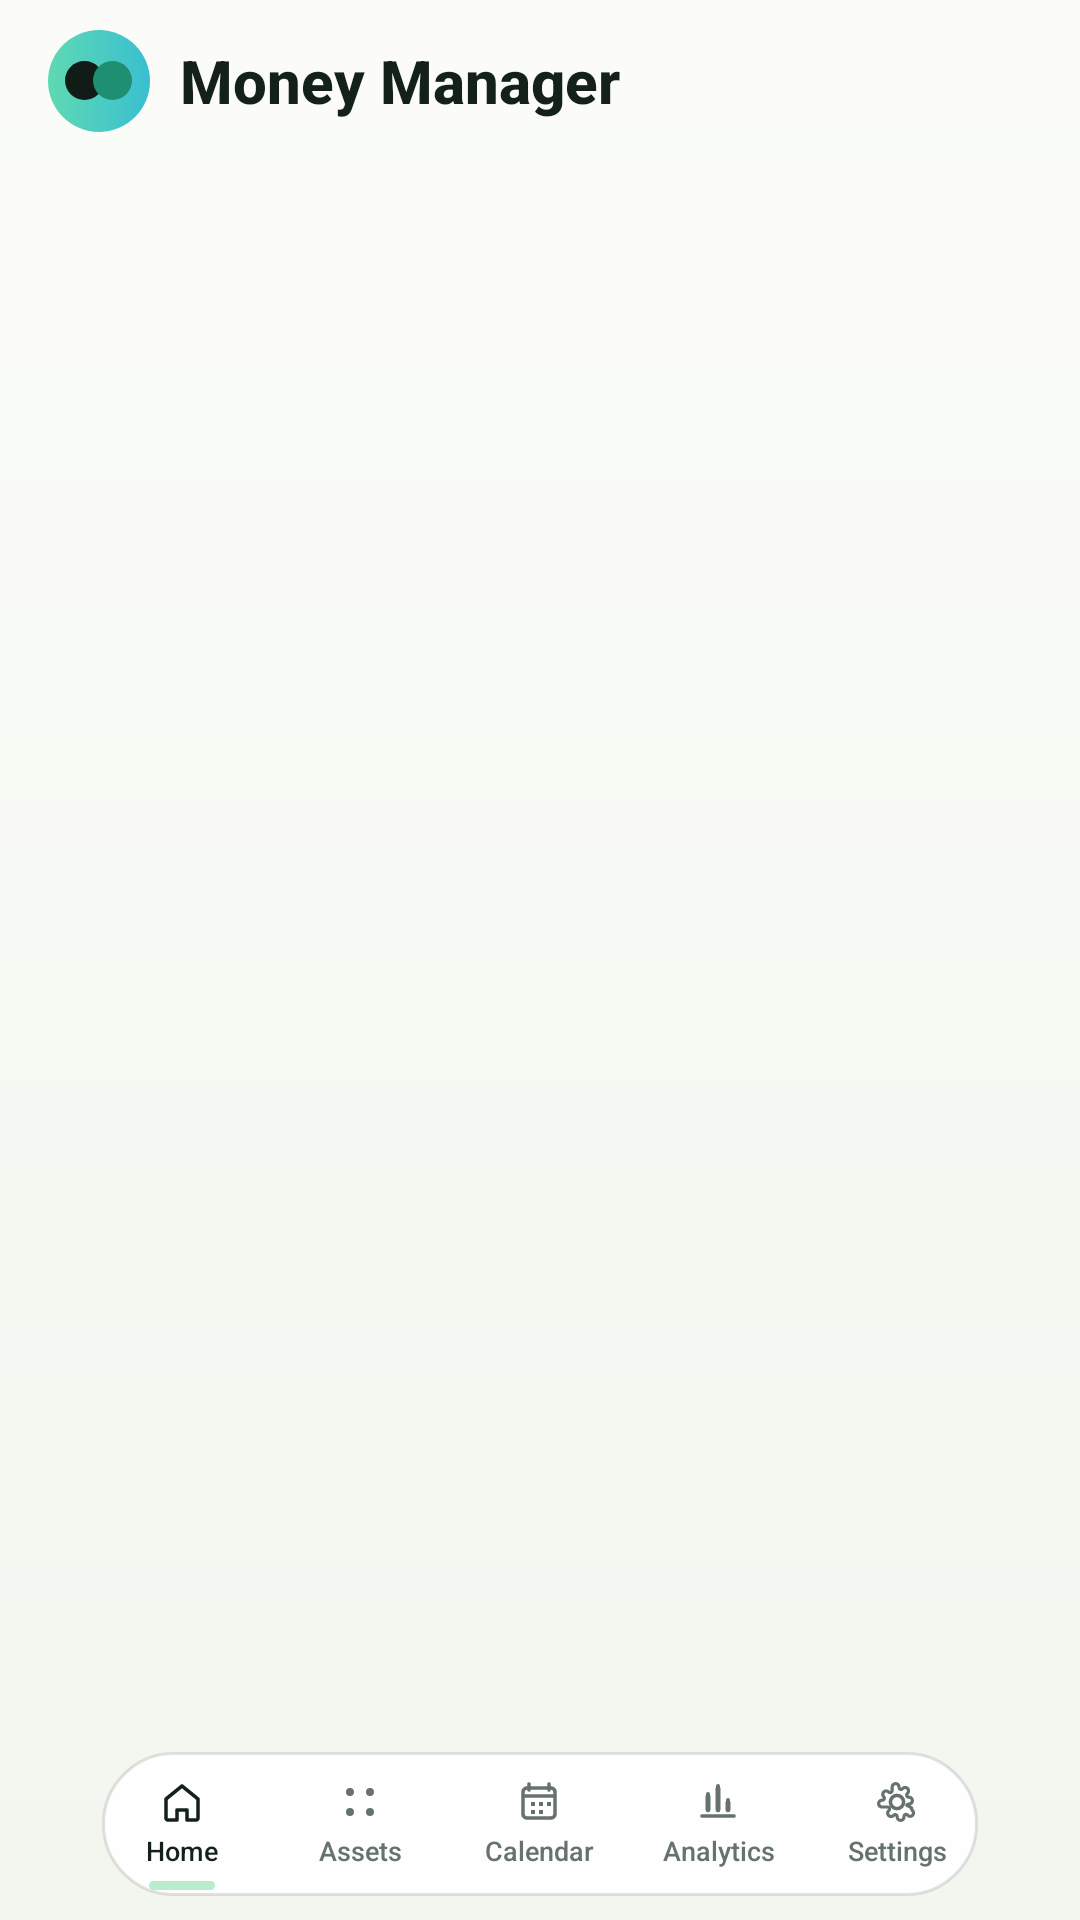

Point at icon controls on the screen. Image size 1080*1920, points as (x,y).
categories: (360,1802)
